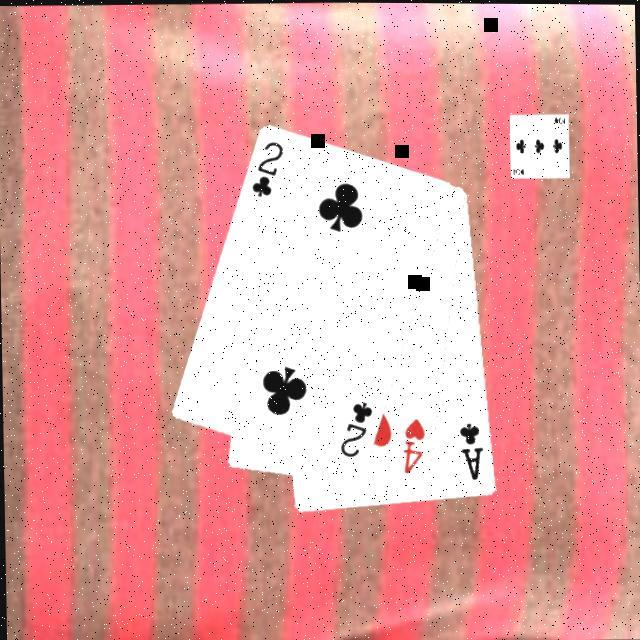2C: (337, 396, 377, 459), (249, 137, 288, 200)
4H: (400, 414, 429, 474)
AC: (457, 419, 488, 482)
